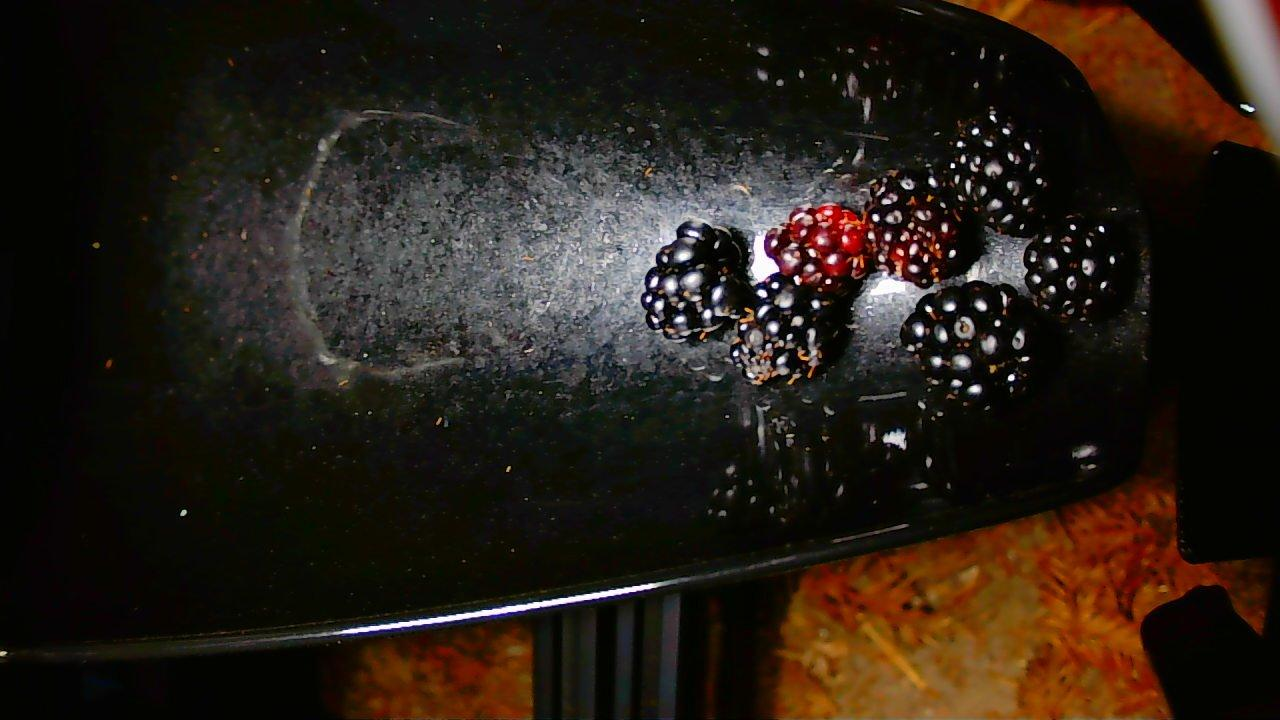berry: (901, 281, 1048, 409), (730, 272, 842, 384), (866, 166, 968, 287), (949, 108, 1047, 233), (641, 226, 749, 339), (1024, 216, 1124, 319), (765, 203, 868, 291)
